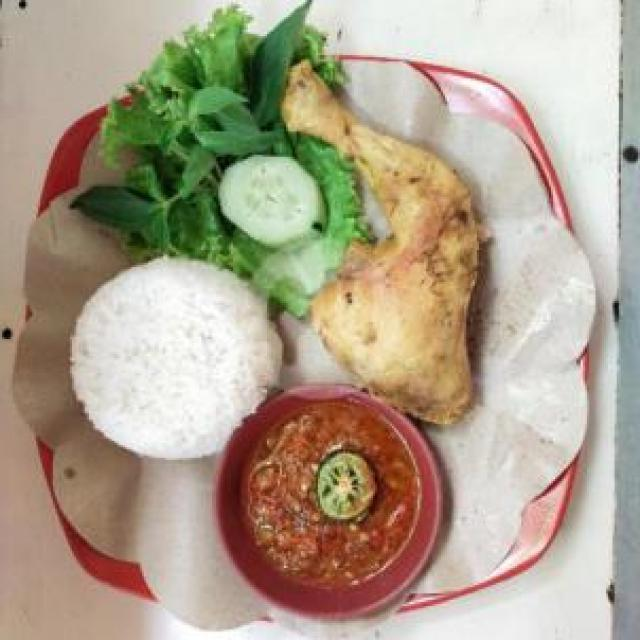ayam_goreng: (286, 89, 504, 428)
nasi_putih: (62, 254, 268, 468)
